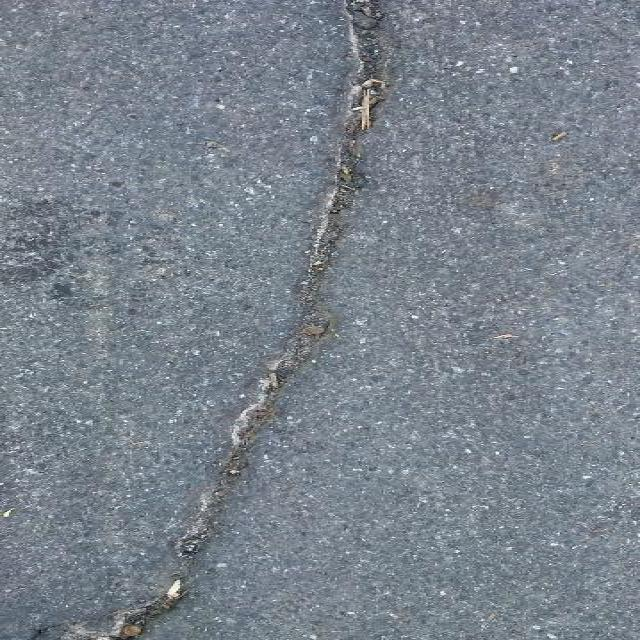Crack: (44, 0, 402, 640)
